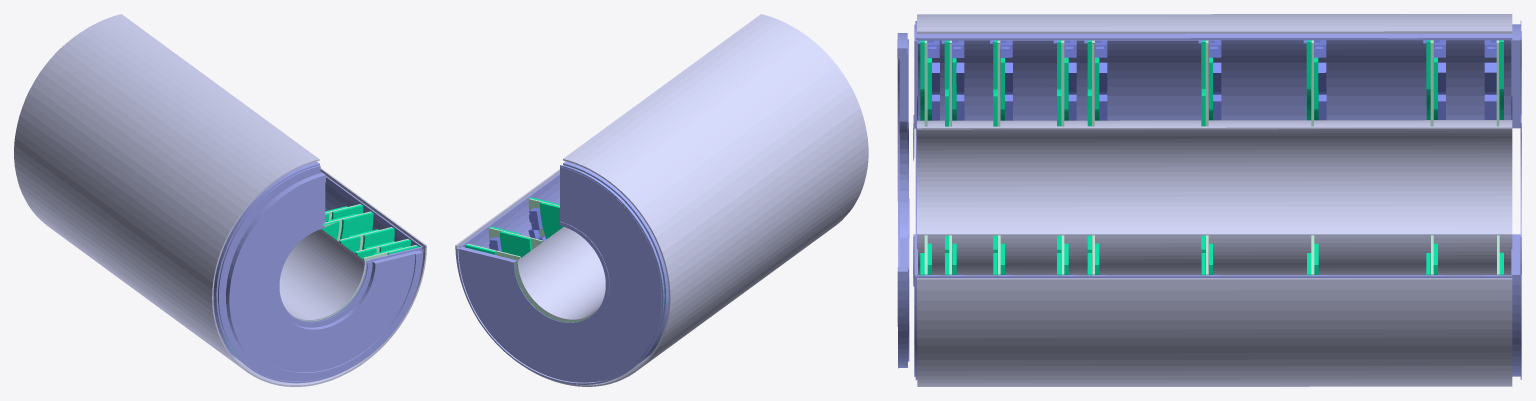
Rendered from SCT-SideC-cut3.glb.
3 views of the same model, side by side, from view 1: azimuth 30°, elevation 25°; view 2: azimuth 150°, elevation 25°; view 3: azimuth 270°, elevation 25° (orthographic). The views are drawn at different scales.
Visible parts, largest first — view 1: null; view 2: null; view 3: null.
Boxes of the visible parts, box(x1,y1,x2,y2) form: null: box(14, 14, 426, 386); null: box(455, 14, 868, 386); null: box(897, 14, 1521, 386).
Bounding box in the file's own units: 1.22 × 1.22 × 2.04.
